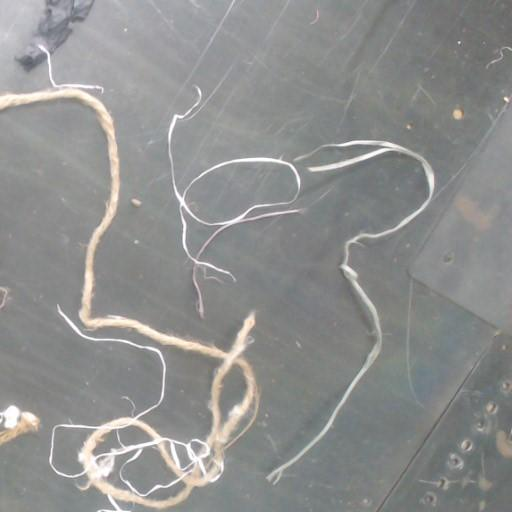cloth: (16, 0, 94, 68)
conveyor belt: (52, 0, 511, 511), (0, 105, 162, 511)
jute: (0, 88, 257, 509)
thread: (268, 140, 434, 479), (172, 157, 299, 279), (38, 45, 103, 91)
